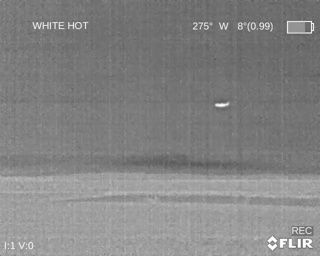AIRPLANE: (213, 100, 231, 110)
